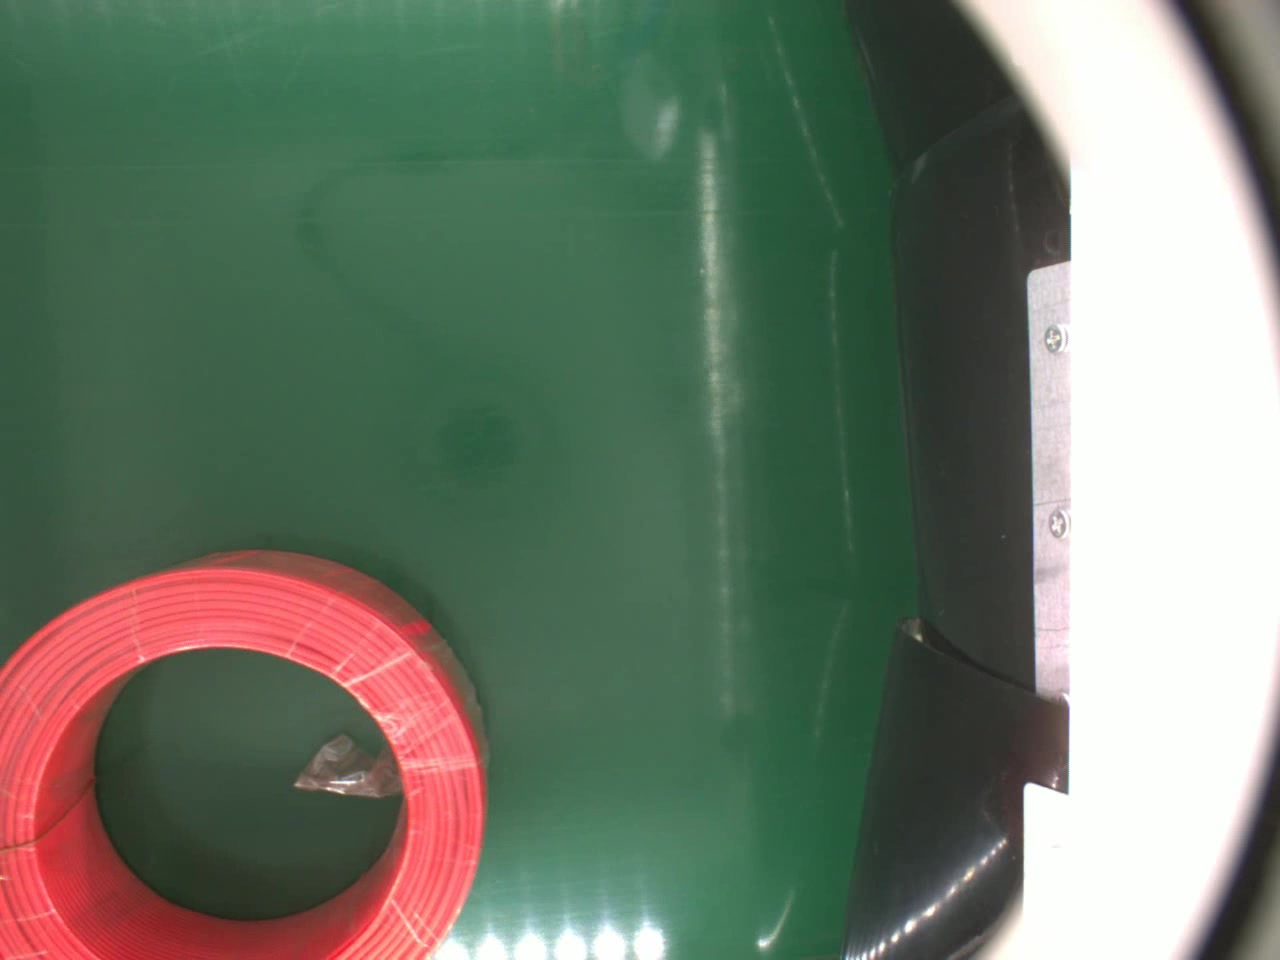red: (0, 545, 500, 960)
